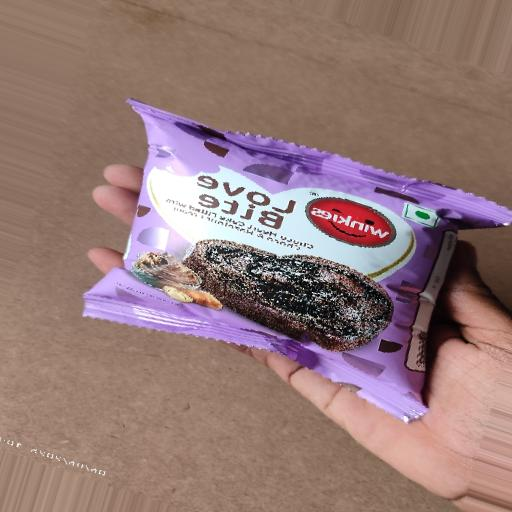Winkies Love Bite cake: (68, 80, 511, 434)
